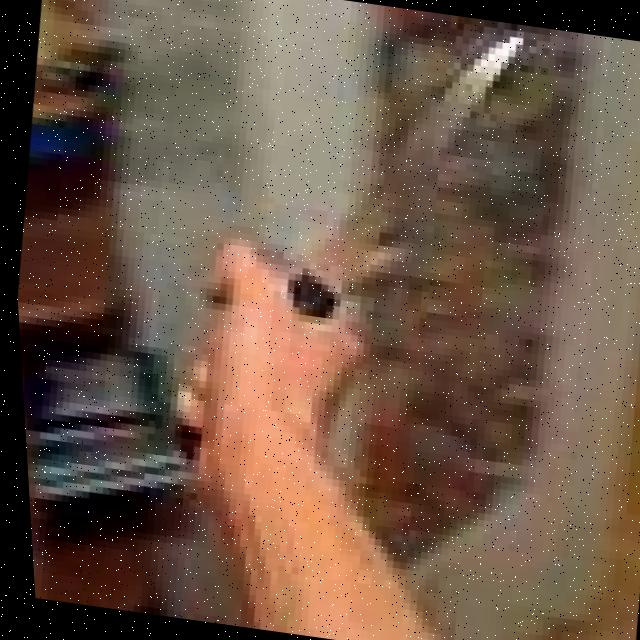knife: (279, 7, 561, 336)
